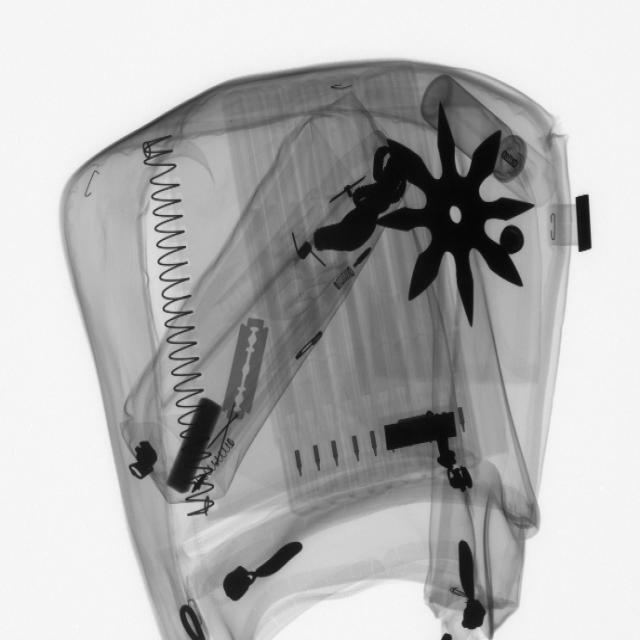BLADE: (222, 313, 275, 427)
SHURIKEN: (375, 106, 536, 328)
